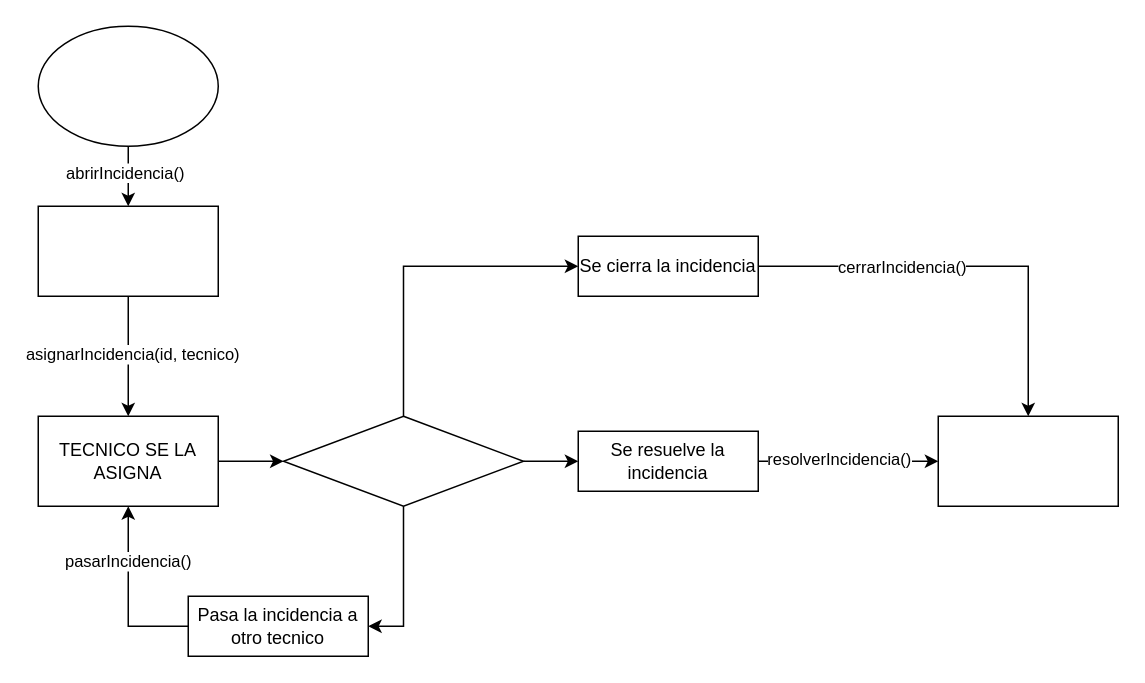
The diagram is 1145 pixels wide and 683 high, and some of its shapes have lost their labels. The centre of each missing label's shape, as x and y in pixels:
SE ALMACENA EN BBDD: point 1027,460
USUARIO ABRE UNA INCIDENCIA: point 127,250
